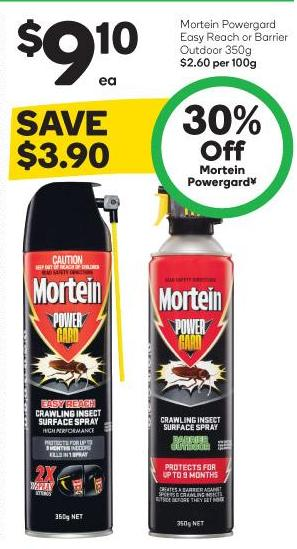description_block: (168, 12, 296, 58)
price_main: (6, 7, 148, 98)
product_image_block: (7, 179, 134, 545)
promo_text_block: (3, 103, 167, 180)
unit_price_block: (164, 53, 265, 71)
